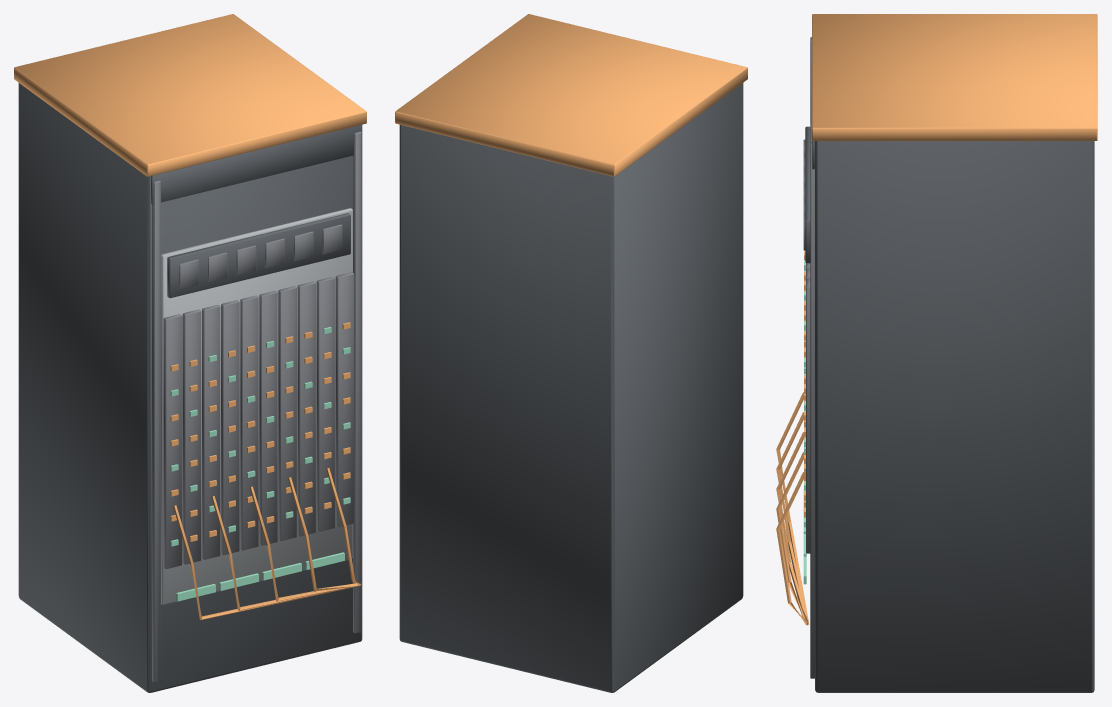
File: core_router.glb
The picture shows the model from 3 angles, left to right: view 1: azimuth 30°, elevation 25°; view 2: azimuth 150°, elevation 25°; view 3: azimuth 270°, elevation 25°; orthographic projection. The views are drawn at different scales.
Visible parts, largest first — view 1: Body; view 2: Body; view 3: Body.
Part boxes in pixels (x1,y1,x2,y2): Body: (14,14,366,692); Body: (395,14,747,692); Body: (776,14,1097,692).
Size of the model in its own units: 0.92 by 2.12 by 1.09.
